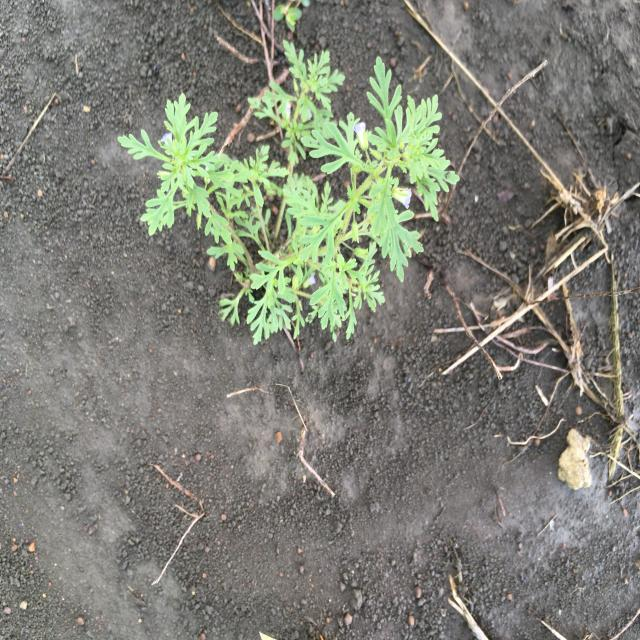Ragweed: (116, 36, 462, 349)
